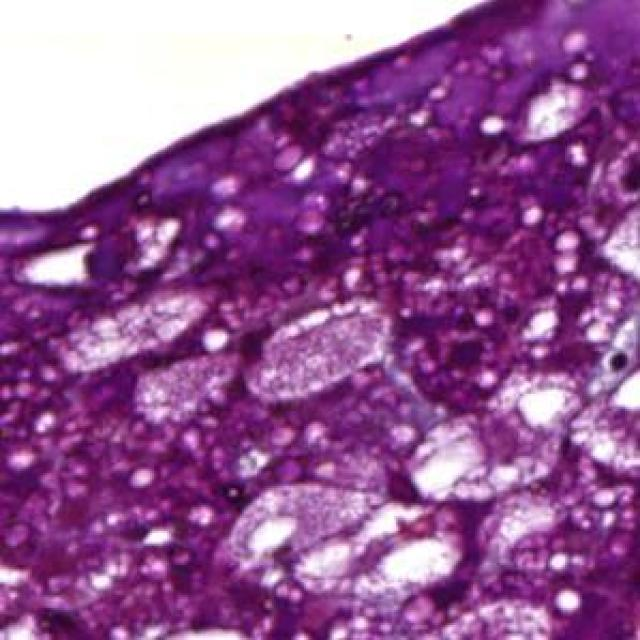ballooning: (405, 394, 567, 505)
